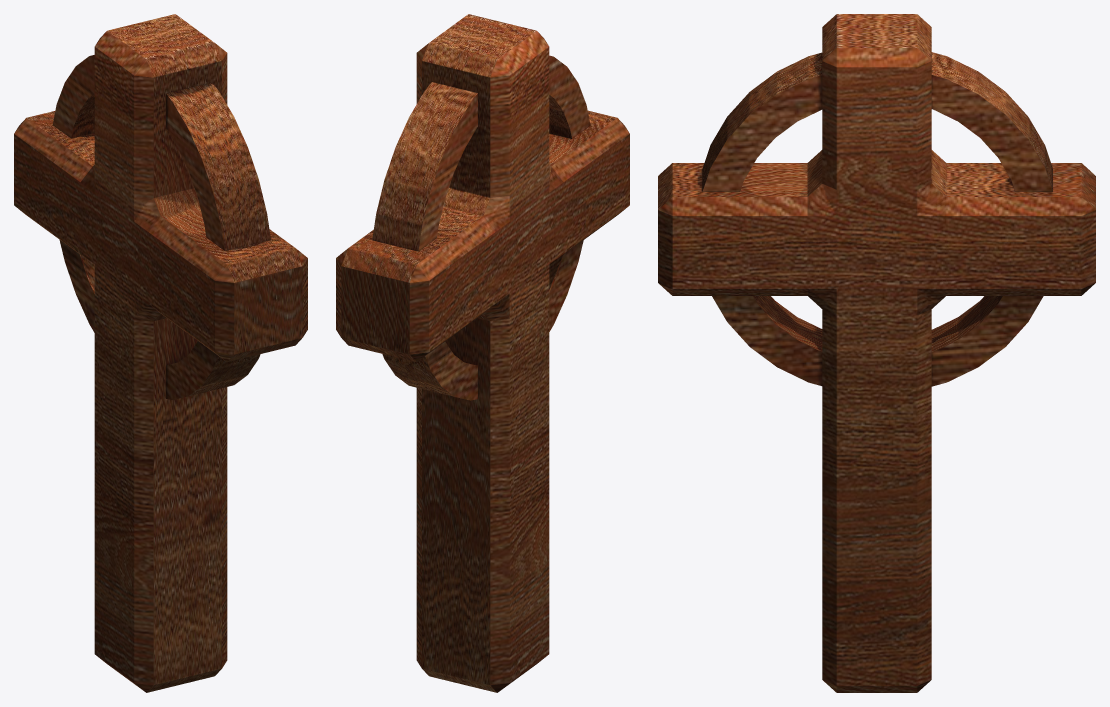
The model's file is moeda.fbx.
The picture shows the model from 3 angles, left to right: view 1: azimuth 30°, elevation 25°; view 2: azimuth 150°, elevation 25°; view 3: azimuth 270°, elevation 25°; orthographic projection.
Parts seen in each view (by area): view 1: Moeda; view 2: Moeda; view 3: Moeda.
Part boxes in pixels (x1,y1,x2,y2): Moeda: (14,14,307,692); Moeda: (336,14,629,692); Moeda: (658,14,1095,692).
Bounding box in the file's own units: 200 × 1300 × 800.
